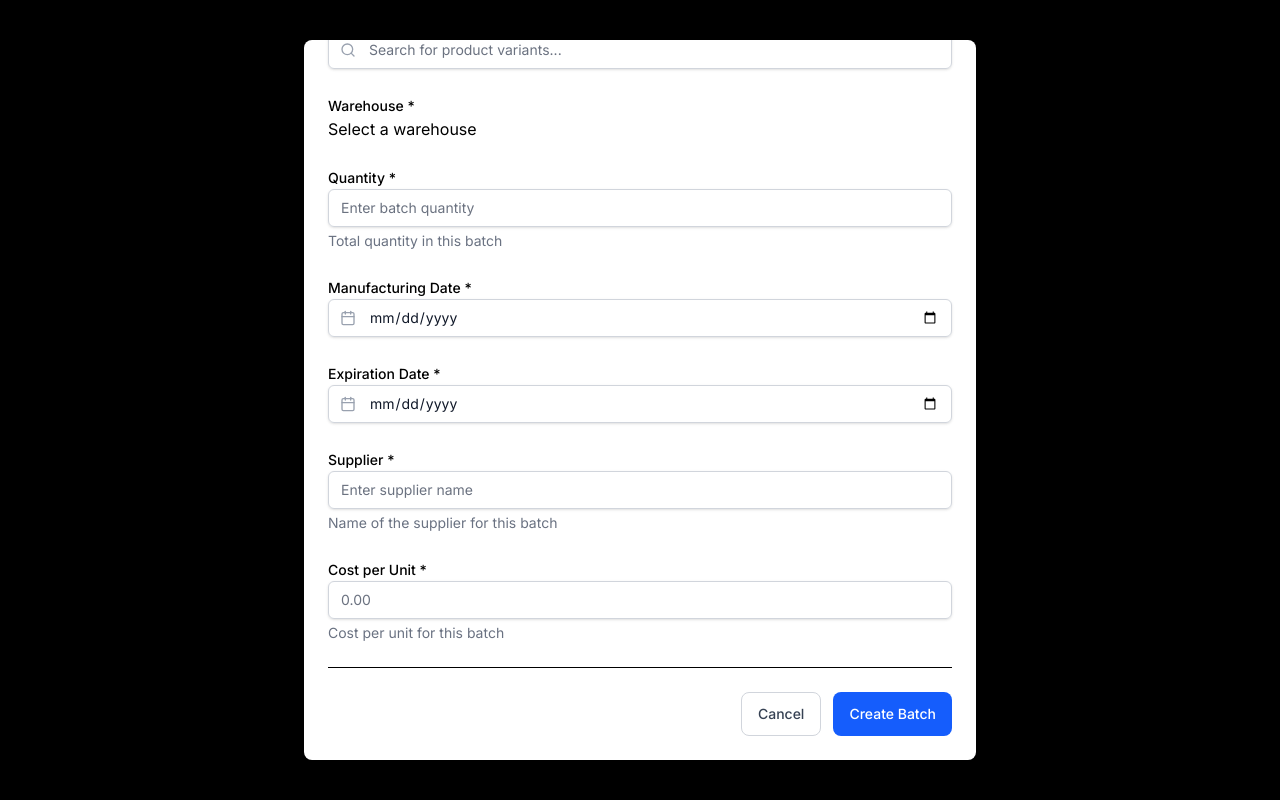
it: BatchForm › validates required fields
(page scrolled)
// Try to submit without filling required fields
Click the button "Create Batch".
click(893, 714)  # box left=833, top=692, right=952, bottom=736
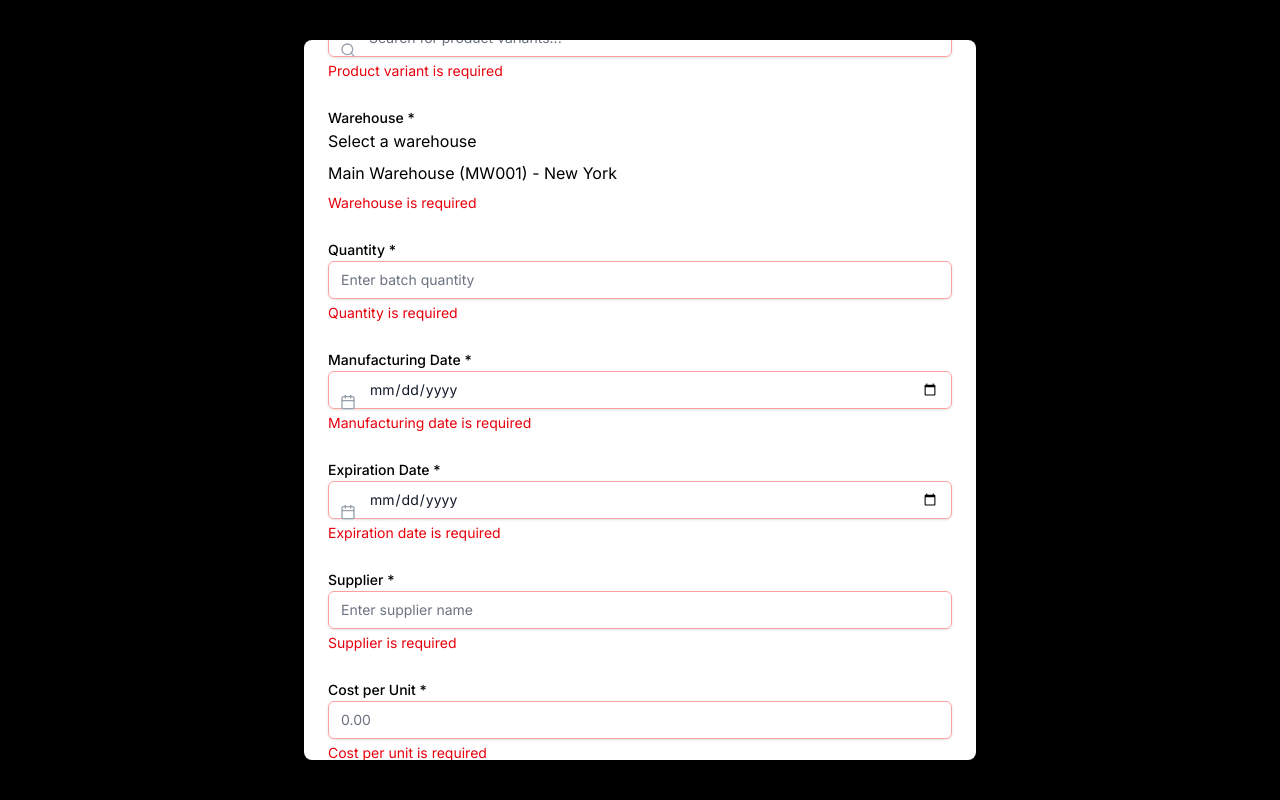
Now the text "Product variant is required" is shown, box left=328, top=62, right=503, bottom=79
Now the text "Warehouse is required" is shown, box left=328, top=194, right=476, bottom=211
Now the text "Quantity is required" is shown, box left=328, top=304, right=458, bottom=321
